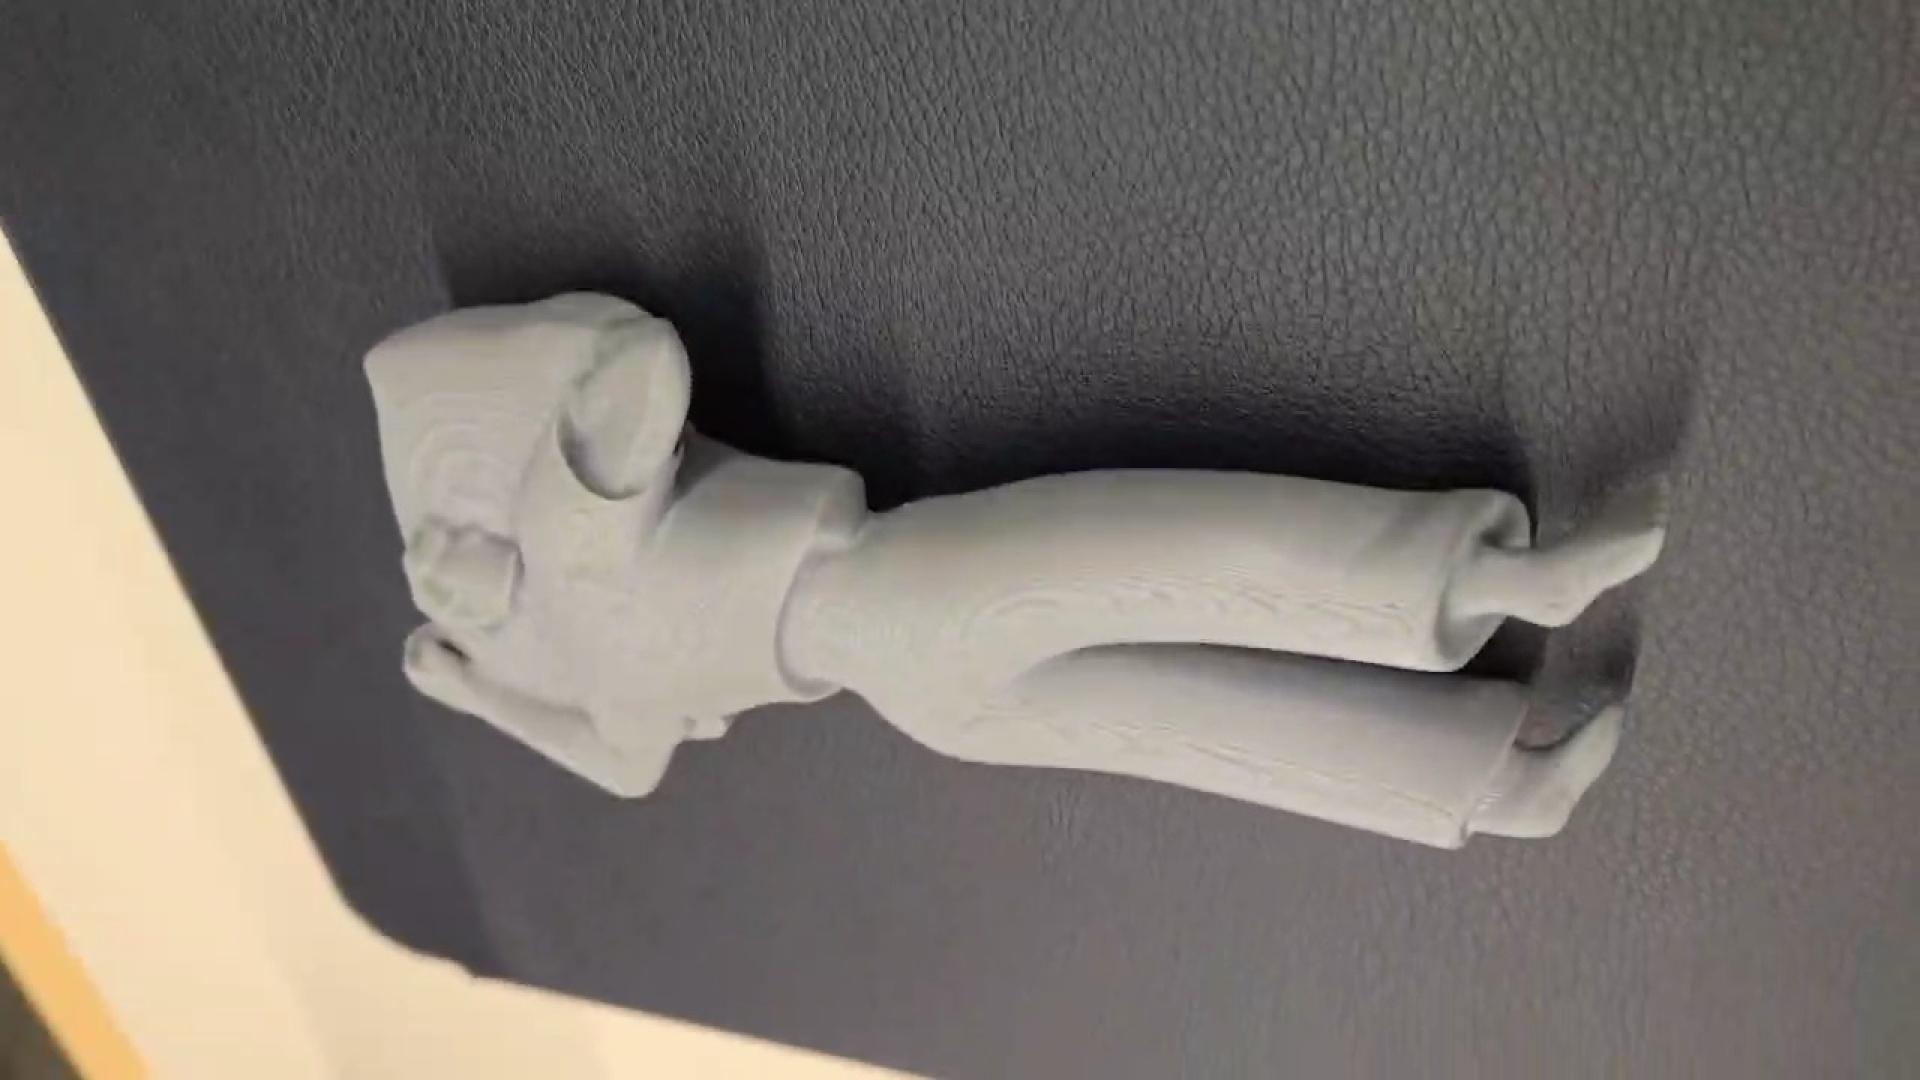Bad-style: (348, 285, 1692, 861)
